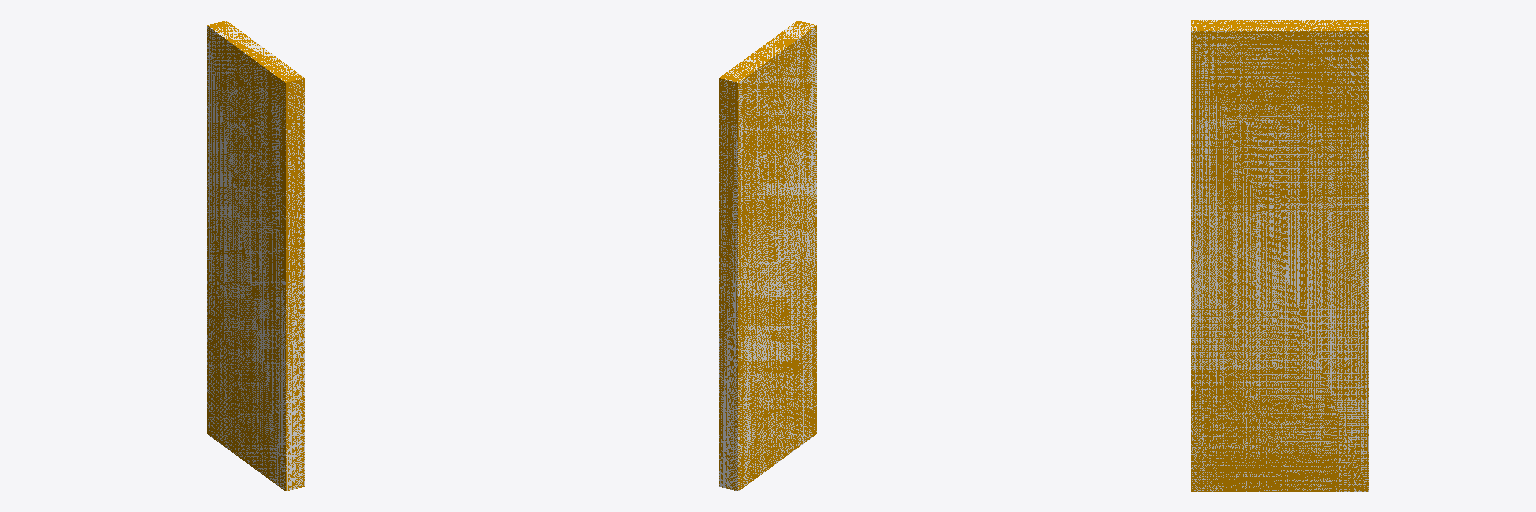
The robot description file, URDF, robot "my_object":
<?xml version="1.0" ?> 
<robot name="my_object" static="true">
  <link name="base_link">
  <inertial>
    <mass value="1.0" />
    <origin xyz="0 0 0.0" />
    <inertia ixx="1.0" ixy="0.0" ixz="0.0" iyy="1.0" iyz="0.0" izz="1.0"/>
  </inertial>
  <visual>
   <origin xyz="0 0 0.0" rpy="0 0 0" />
   <geometry>
     <mesh filename="package://cob_gazebo_objects/Media/models/livingroom_clocks.dae"/>
   </geometry>
  </visual>
  <collision>
   <origin xyz="0 0 0.0" rpy="0 0 0" />
   <geometry>
     <mesh filename="package://cob_gazebo_objects/Media/models/livingroom_clocks.dae" />
   </geometry>
  </collision>     
  </link>

<gazebo>
	<static>true</static>
</gazebo>

</robot>

--- Render facts (derived) ---
The picture shows the robot from 3 angles, left to right: view 1: azimuth 30°, elevation 25°; view 2: azimuth 150°, elevation 25°; view 3: azimuth 270°, elevation 25°; orthographic projection.
Robot: my_object — 1 links, 0 joints (none); root link base_link; default pose: every joint at zero.
Visible links, largest first — view 1: base_link; view 2: base_link; view 3: base_link.
Link boxes in pixels (x1,y1,x2,y2): base_link: [207, 21, 304, 490]; base_link: [719, 21, 816, 490]; base_link: [1191, 20, 1368, 491].
Bounding box of the posed robot: 0.0013 × 0.0089 × 0.0254 m (x, y, z).
Meshes: 1 distinct files referenced, 1 mesh visuals loaded (1 Collada DAE).